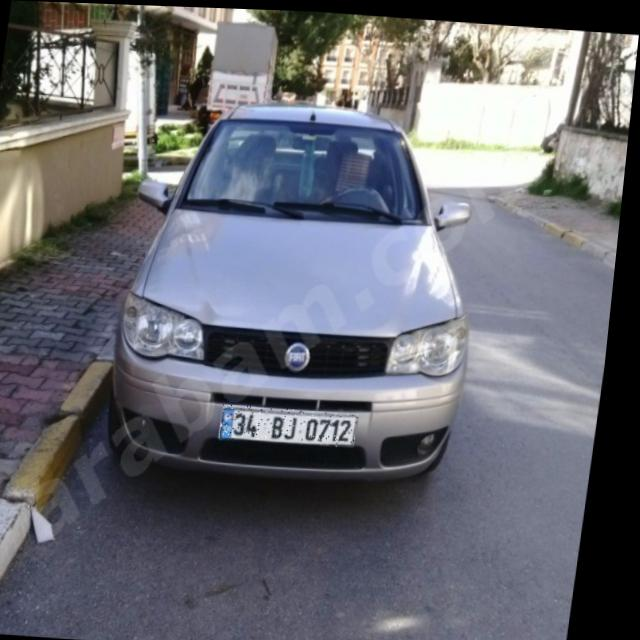license_plate: (227, 402, 367, 445)
